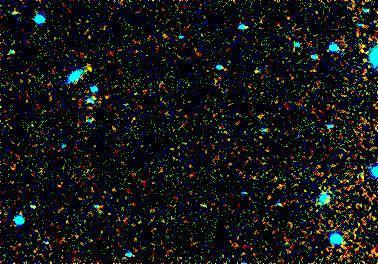star: (74, 54, 104, 84)
